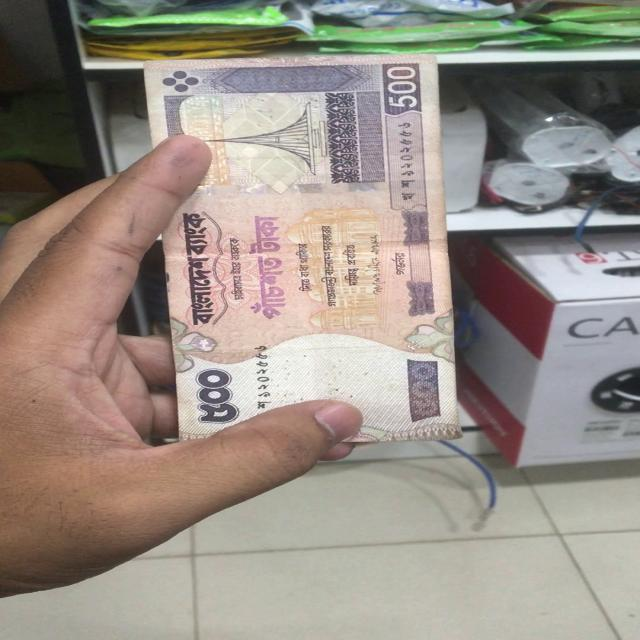Taka: (146, 62, 454, 438)
